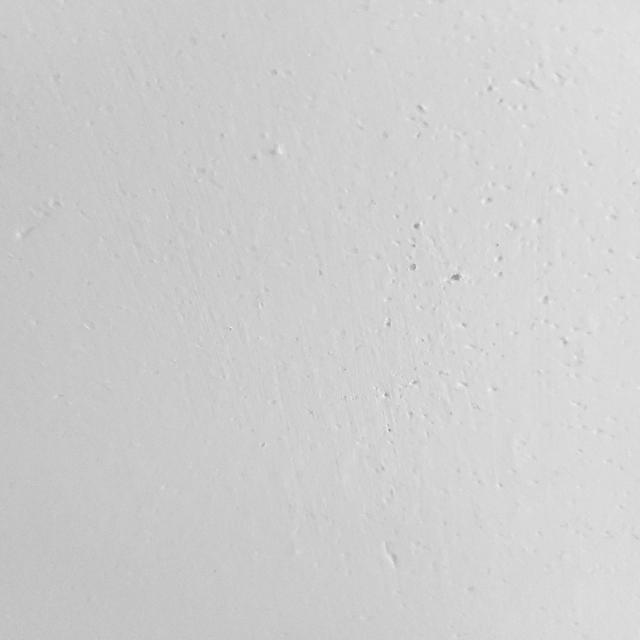rough and patchy surface: (32, 15, 622, 613)
